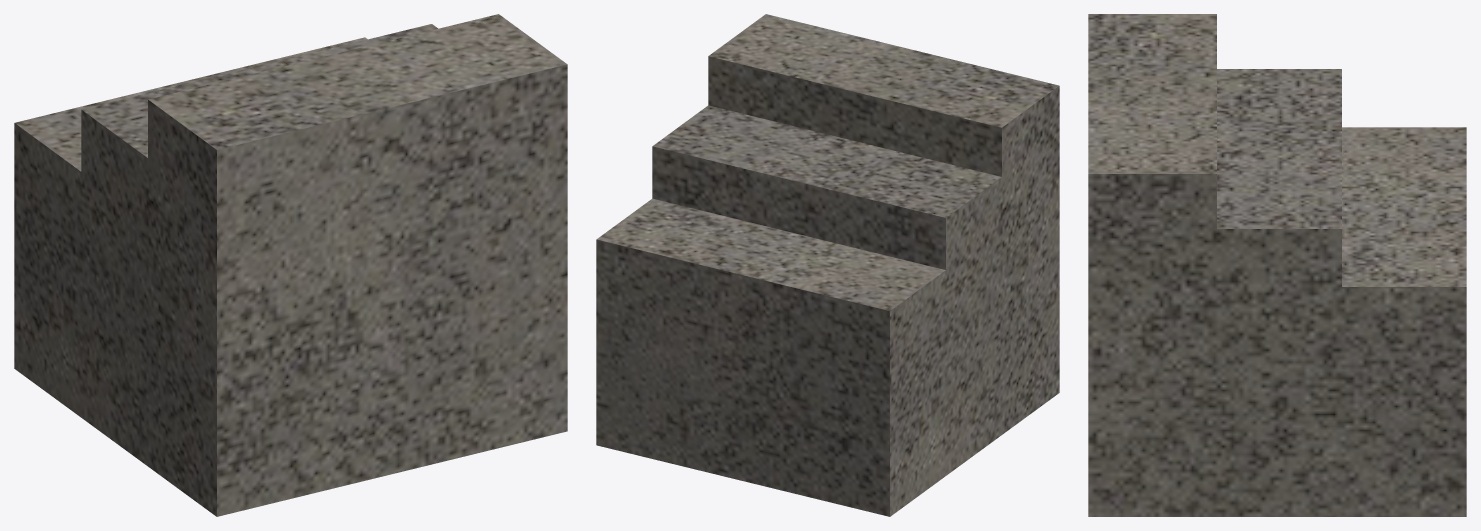
File: escalera02.obj
3 renders of one model, left to right at view 1: azimuth 30°, elevation 25°; view 2: azimuth 150°, elevation 25°; view 3: azimuth 270°, elevation 25°, orthographic. The views are drawn at different scales.
Size of the model in its own units: 1 by 1 by 1.
1 material, 1 textured.
